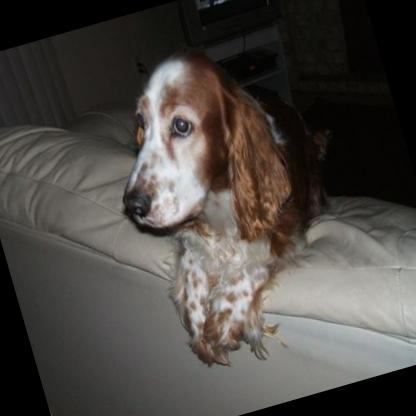Welsh_springer_spaniel: (84, 21, 368, 376)
